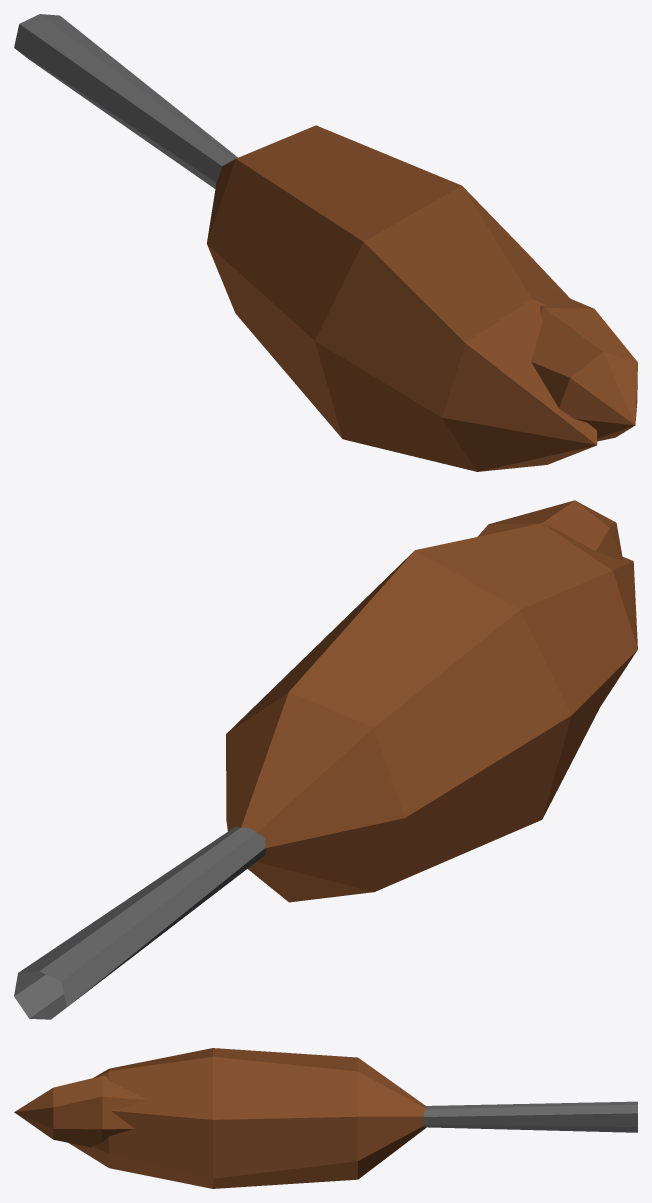
The model's file is dead.glb.
3 views of the same model, one above another, from view 1: azimuth 30°, elevation 25°; view 2: azimuth 150°, elevation 25°; view 3: azimuth 270°, elevation 25° (orthographic). The views are drawn at different scales.
Visible parts, largest first — view 1: tree_01_dead; view 2: tree_01_dead; view 3: tree_01_dead.
Boxes of the visible parts, x1,y1,x2,y2 form: tree_01_dead: (14,14,637,471); tree_01_dead: (14,500,637,1019); tree_01_dead: (14,1048,637,1188).
Size of the model in its own units: 6.79 by 7.41 by 30.73.
